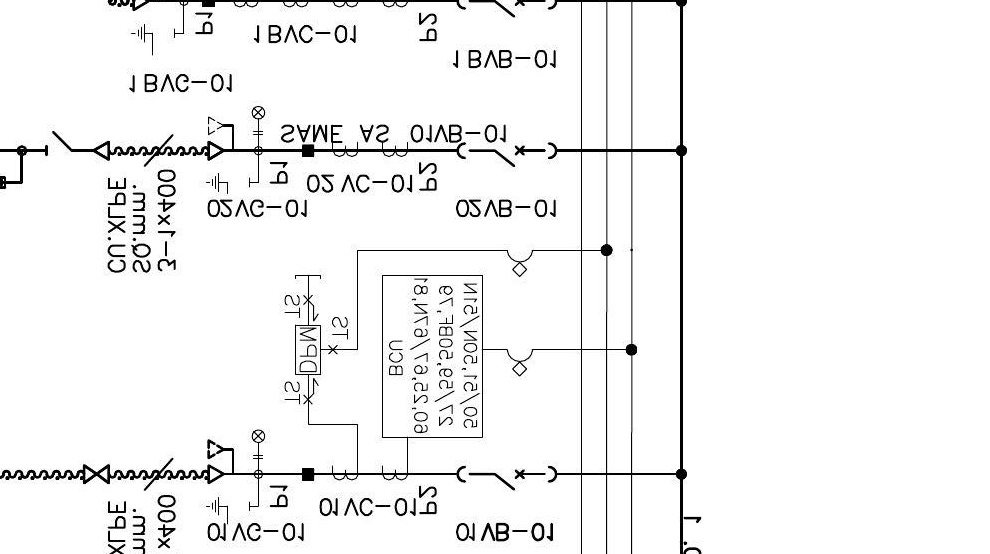22_breaker: (455, 464, 558, 492), (456, 141, 558, 168)
22_gs: (131, 22, 177, 56), (206, 495, 252, 525), (206, 172, 251, 196)
22_ll: (251, 429, 266, 460), (251, 105, 266, 136)
DPM: (294, 323, 322, 377)
terminator_single: (92, 139, 111, 162)
terminator_splicing_kits: (83, 464, 111, 485)
terminator_w_future: (206, 438, 236, 485), (206, 115, 235, 162)
